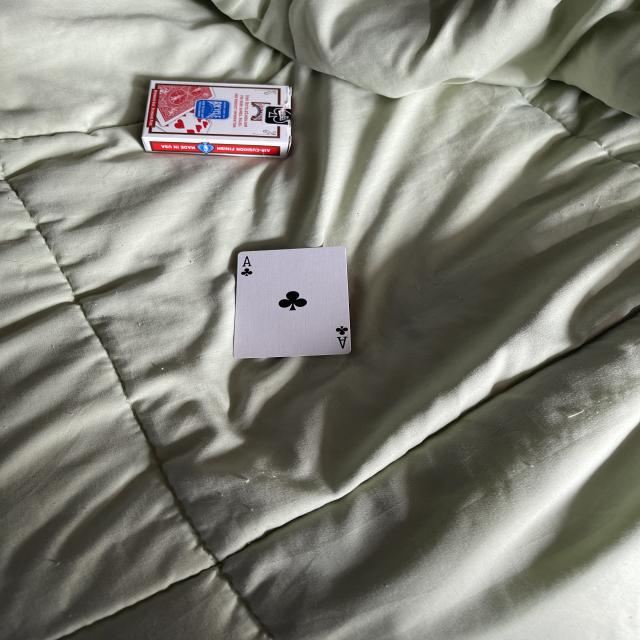Ace of clubs: (232, 247, 353, 361)
